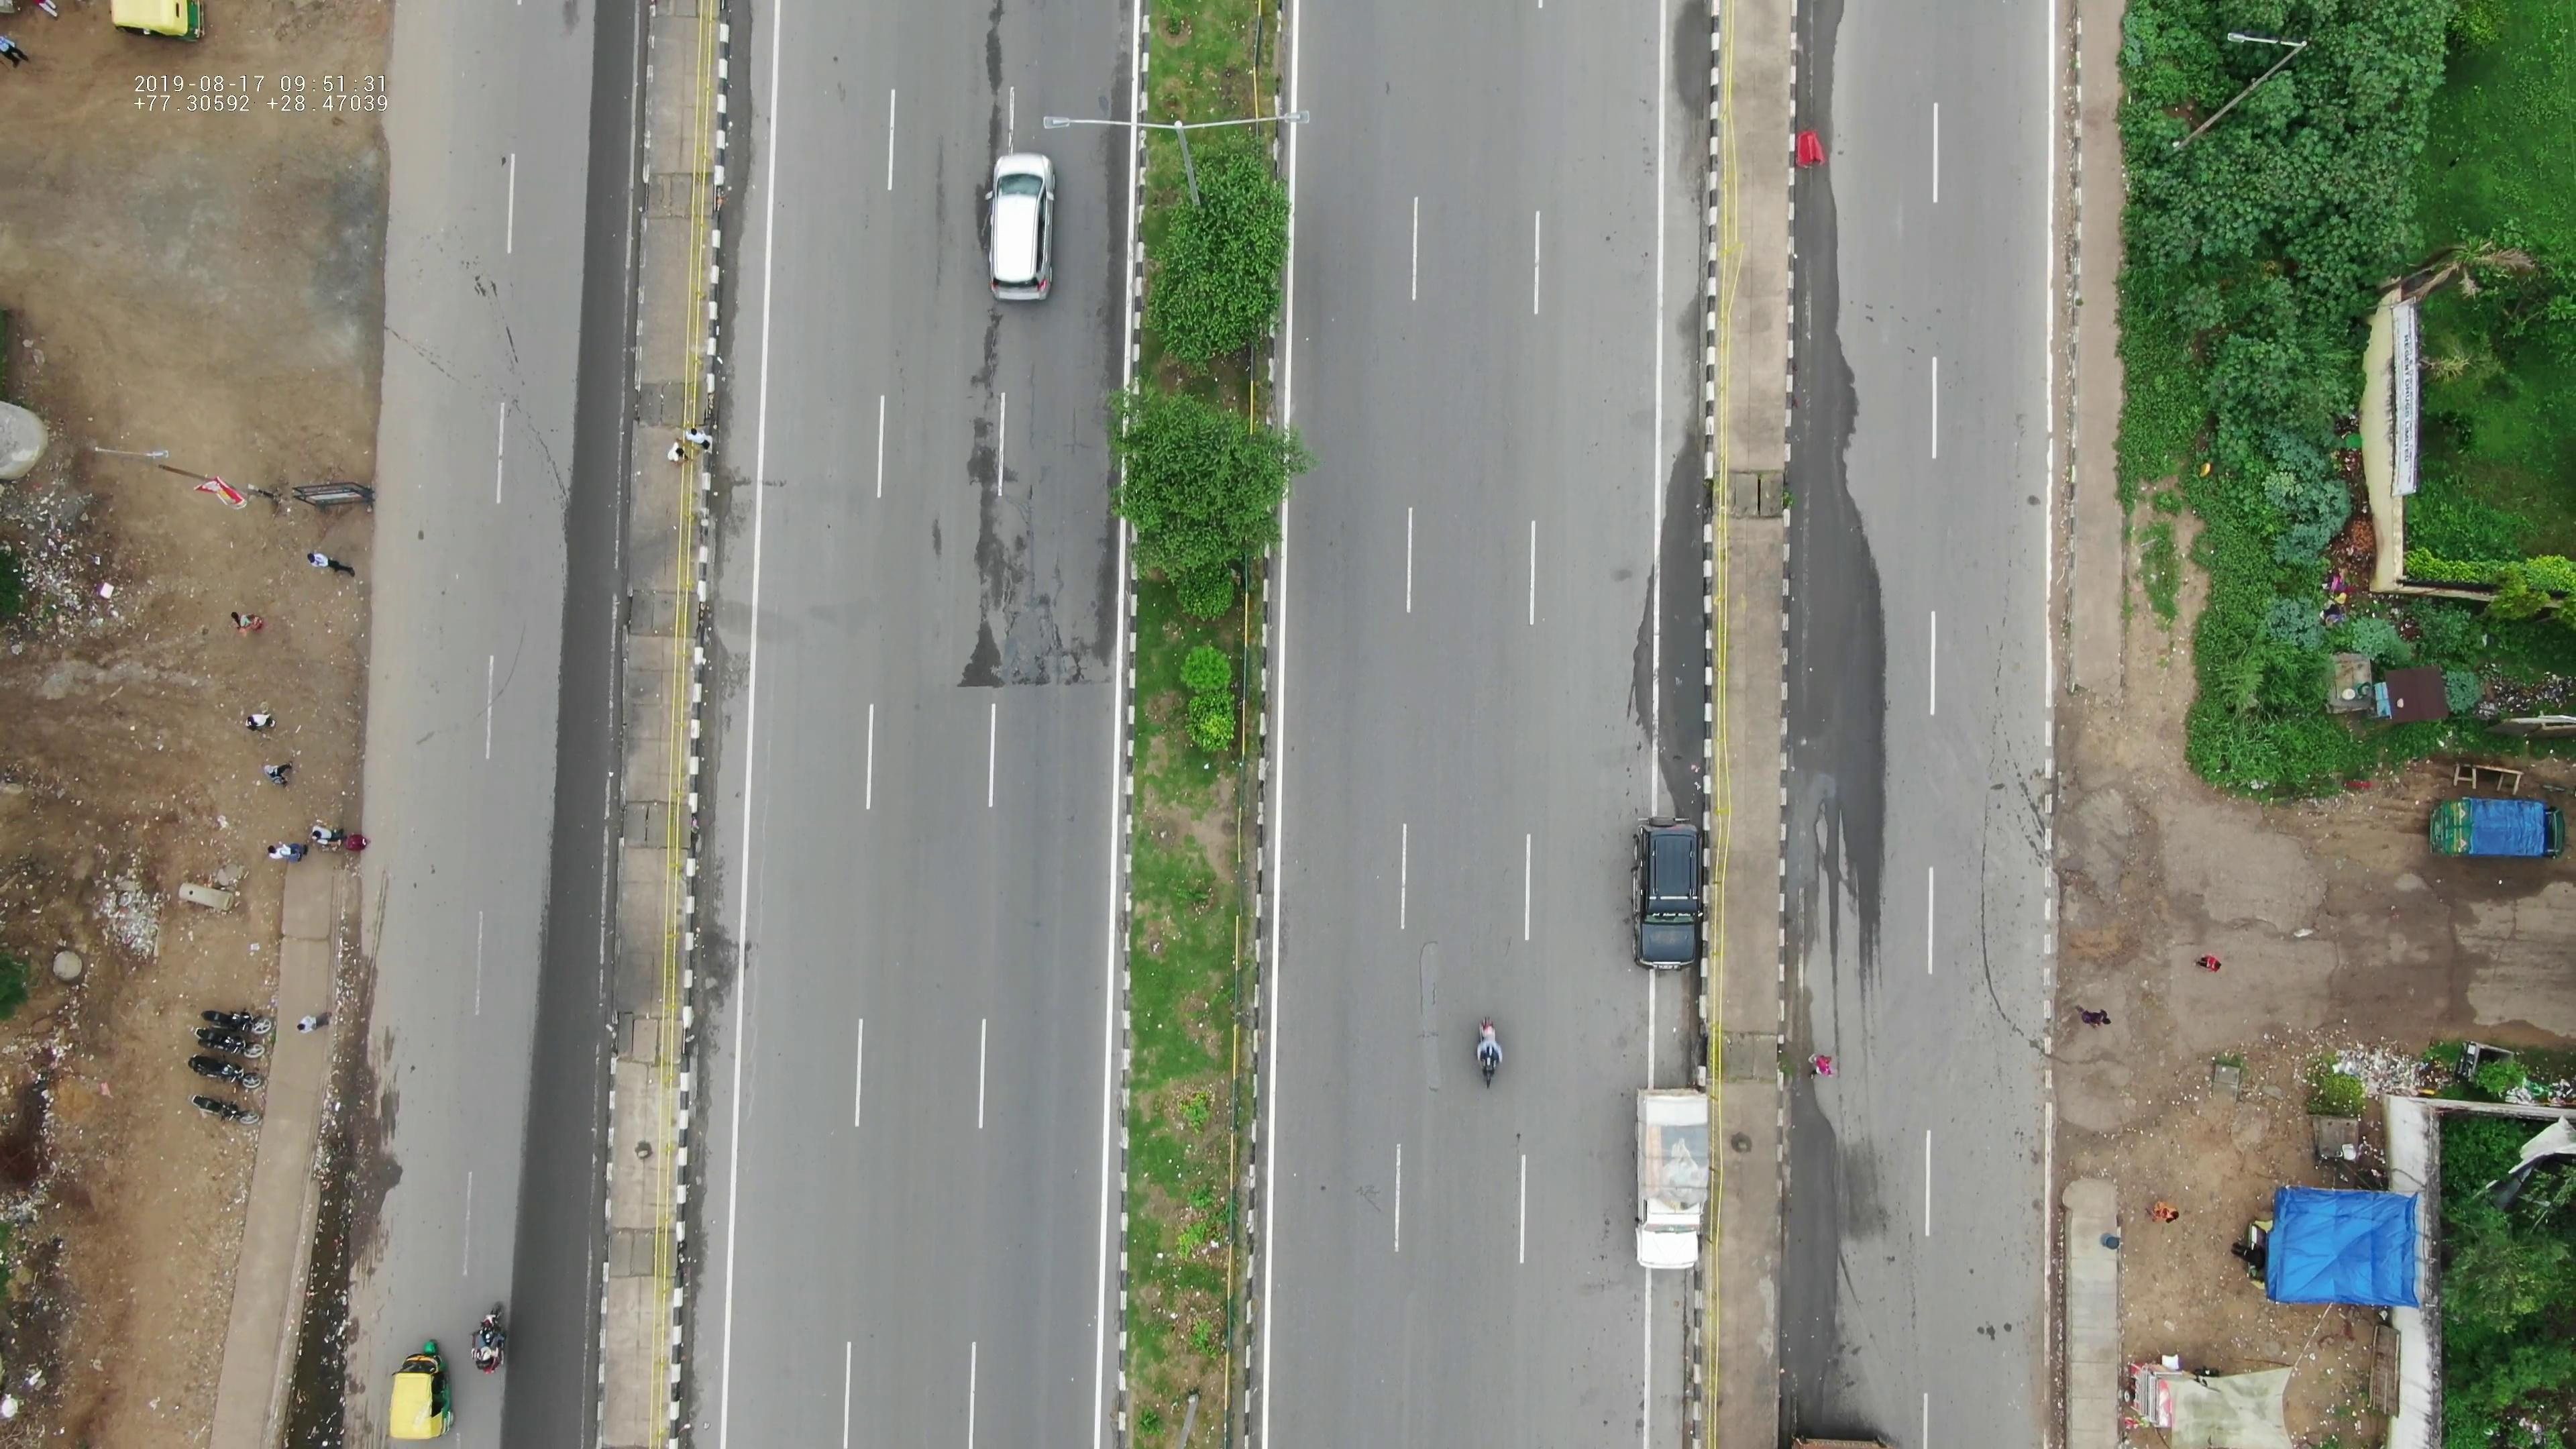Alligator_cracks: (957, 412, 1123, 708)
Hair_cracks: (1346, 1175, 1387, 1224)
Ravelling: (977, 308, 1007, 389)
